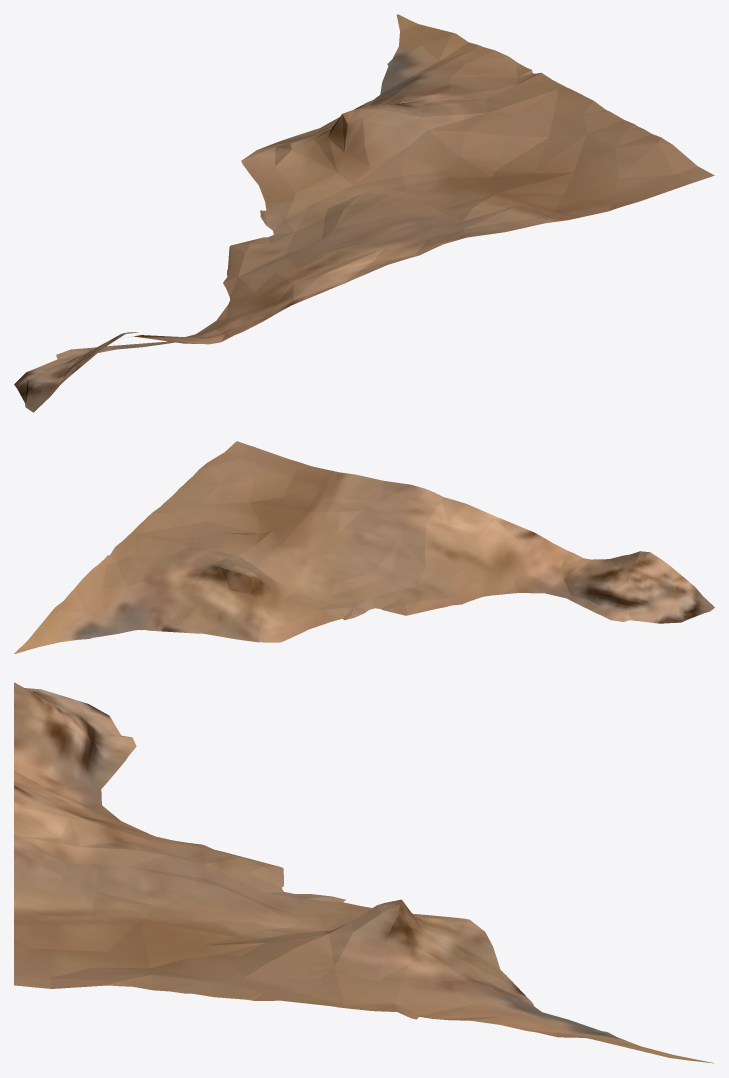
The picture shows the model from 3 angles, top to bottom: view 1: azimuth 30°, elevation 25°; view 2: azimuth 150°, elevation 25°; view 3: azimuth 270°, elevation 25°; orthographic projection. The views are drawn at different scales.
Size of the model in its own units: 1.1 by 0.1089 by 0.8828.
1 material, 1 textured.
